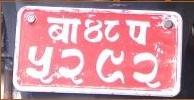2: (131, 52, 163, 89), (59, 48, 85, 84)
4: (83, 18, 104, 44)
5: (26, 45, 53, 83)
8: (103, 19, 121, 42)
9: (94, 47, 125, 84)
ba: (45, 16, 80, 44)
pa: (125, 19, 150, 46)
